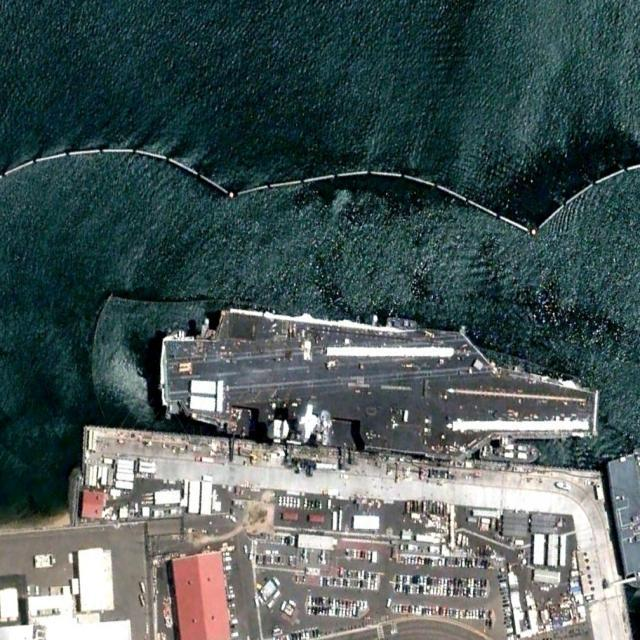Aircraft Carrier: (154, 294, 603, 477)
